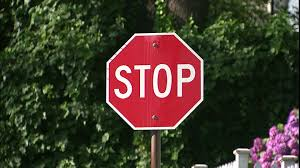Stop: (98, 27, 217, 127)
